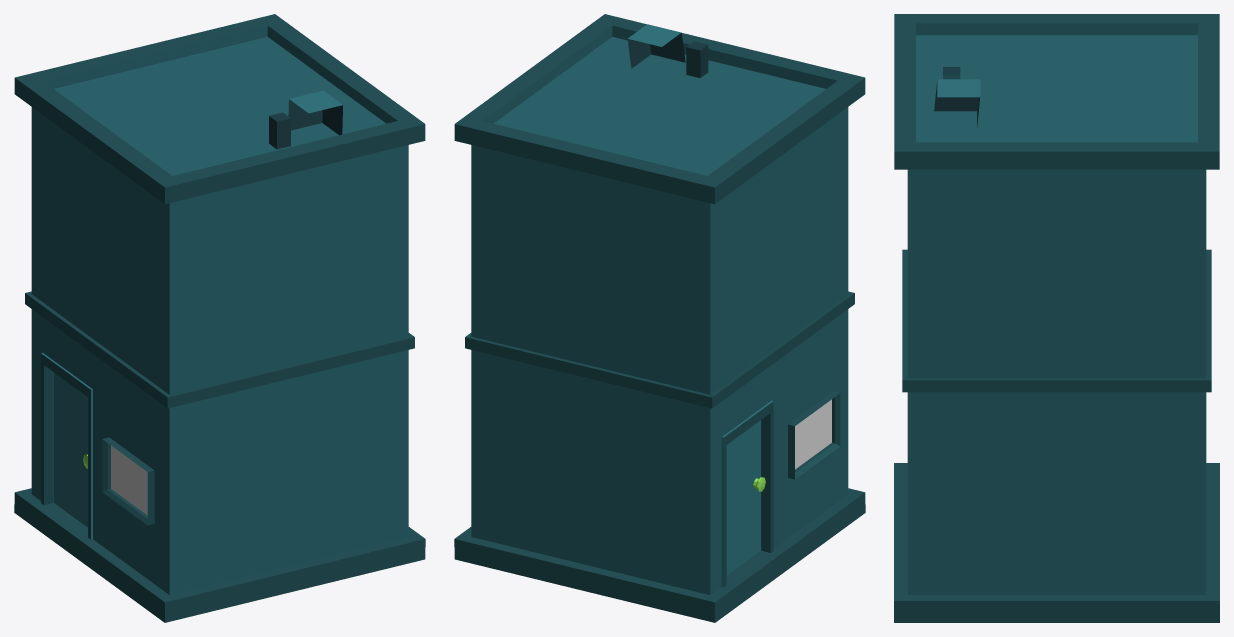
File: casa_verde.fbx
3 views of the same model, side by side, from view 1: azimuth 30°, elevation 25°; view 2: azimuth 150°, elevation 25°; view 3: azimuth 270°, elevation 25° (orthographic). The views are drawn at different scales.
Parts seen in each view (by area): view 1: Cube, Cube.001; view 2: Cube, Cube.001; view 3: Cube.
Part boxes in pixels (box(x1,y1,x2,y2)): Cube: box(14, 14, 425, 622); Cube.001: box(111, 445, 147, 515); Cube: box(454, 14, 865, 622); Cube.001: box(795, 399, 831, 469); Cube: box(894, 14, 1219, 622).
Bounding box in the file's own units: 416 × 693 × 416.
